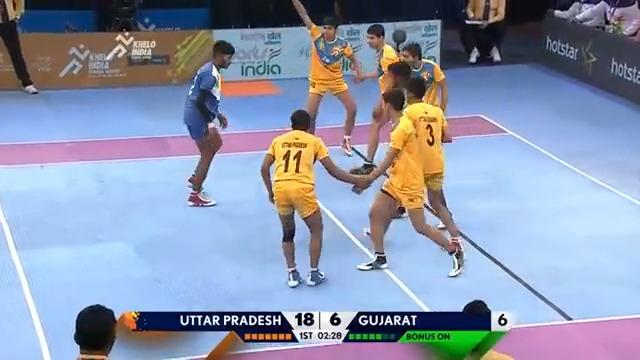Player: (352, 80, 465, 277), (260, 108, 369, 287), (392, 41, 451, 230), (291, 0, 362, 156), (352, 23, 407, 174), (0, 0, 38, 94), (398, 41, 448, 112)
Raider: (182, 39, 235, 207)
